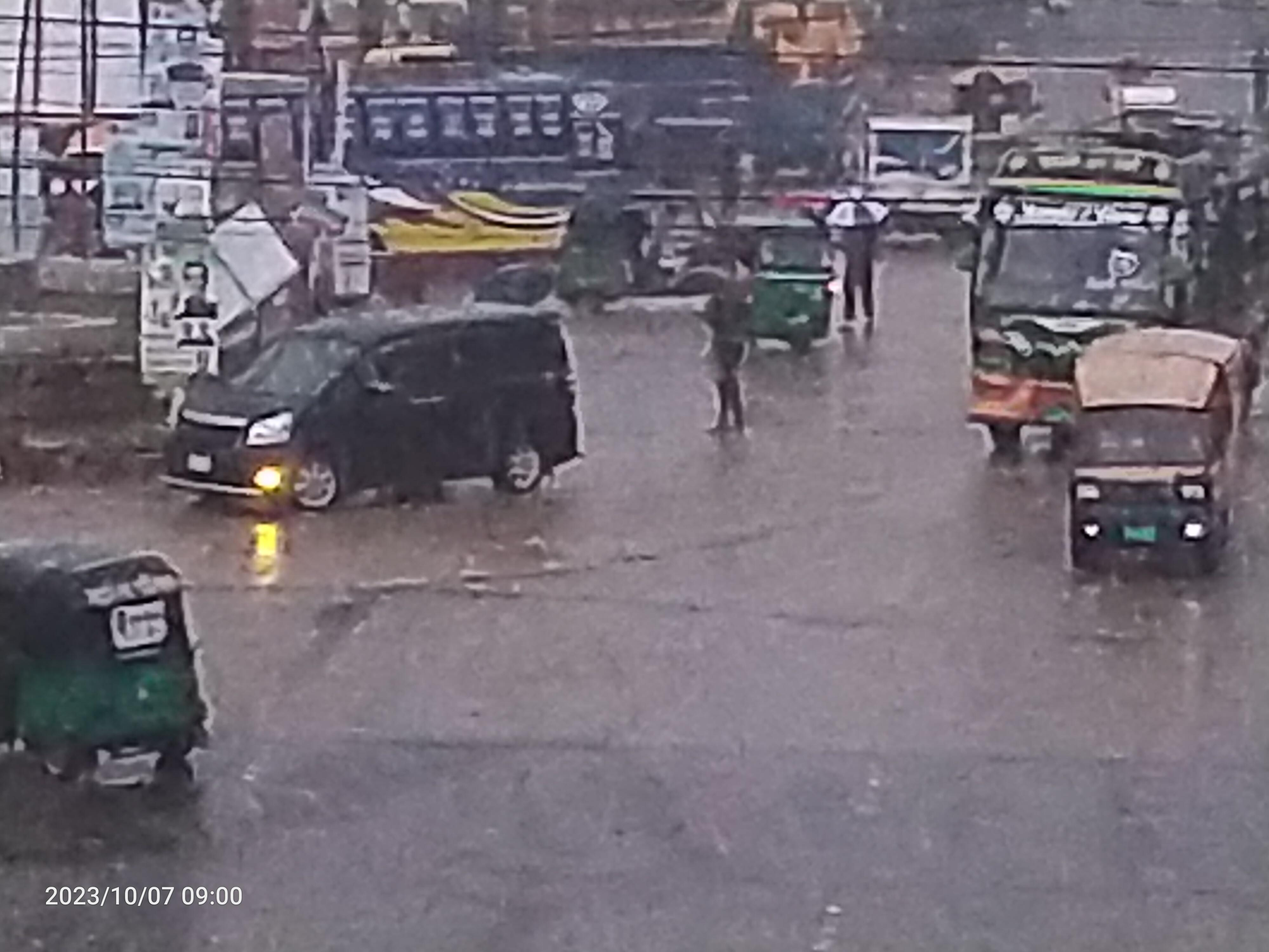Bus: (71, 56, 625, 293), (955, 122, 1269, 471)
Car: (116, 297, 618, 550), (1039, 301, 1254, 615)
